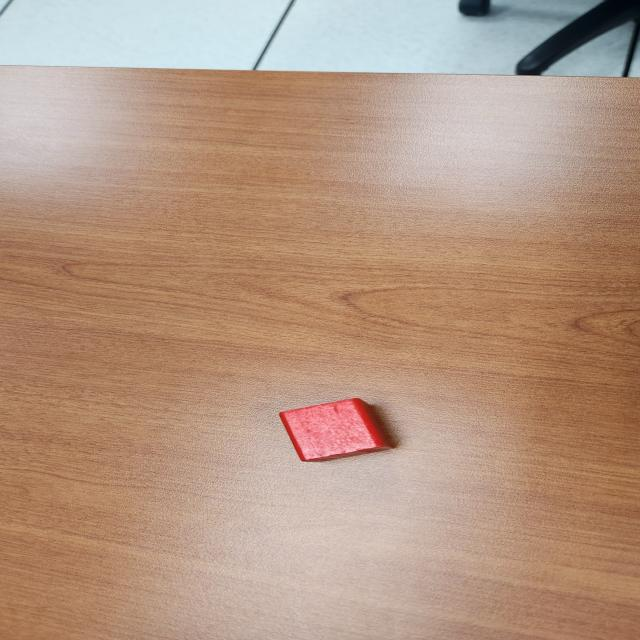red: (278, 398, 398, 462)
